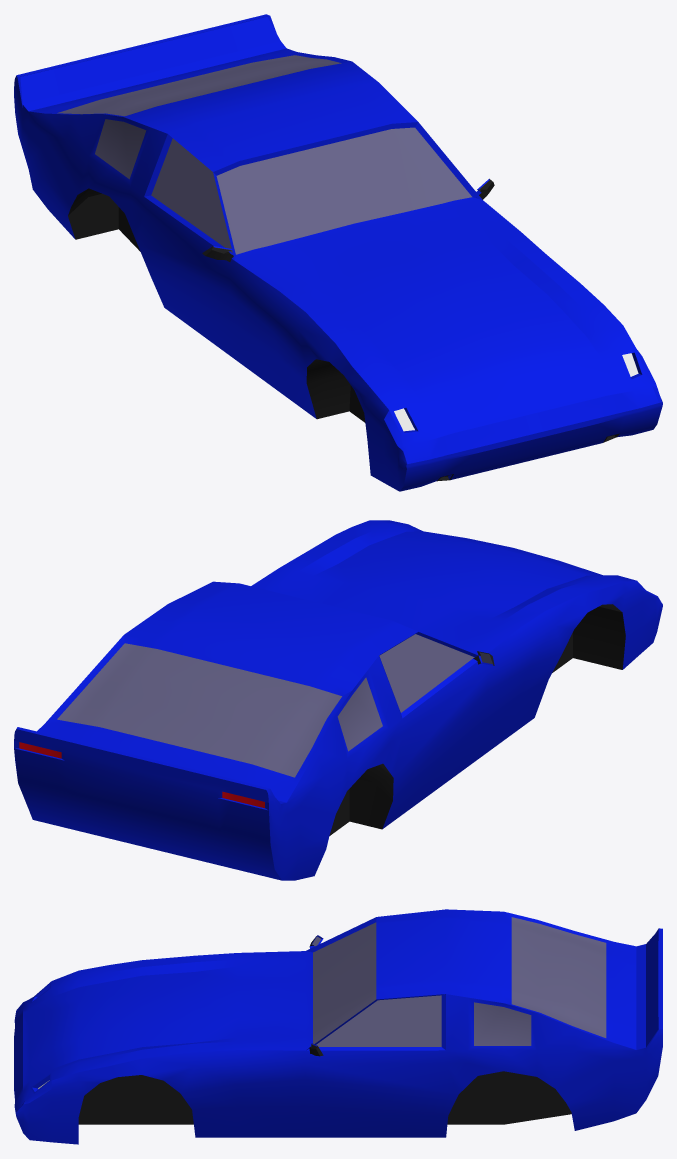
File: New Car.fbx
3 views of the same model, one above another, from view 1: azimuth 30°, elevation 25°; view 2: azimuth 150°, elevation 25°; view 3: azimuth 270°, elevation 25° (orthographic). The views are drawn at different scales.
Parts seen in each view (by area): view 1: Car; view 2: Car; view 3: Car.
Boxes of the visible parts, bbox=[...] form: Car: bbox=[14, 14, 662, 491]; Car: bbox=[14, 520, 662, 880]; Car: bbox=[14, 909, 662, 1144].
Bounding box in the file's own units: 202 × 117 × 475.
